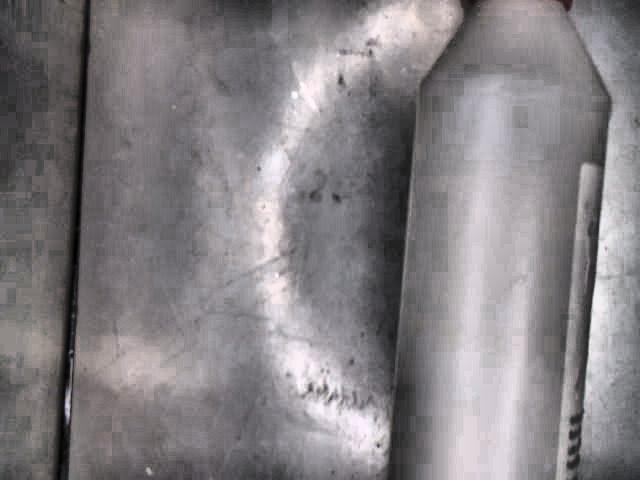Plastic: (389, 0, 613, 480)
